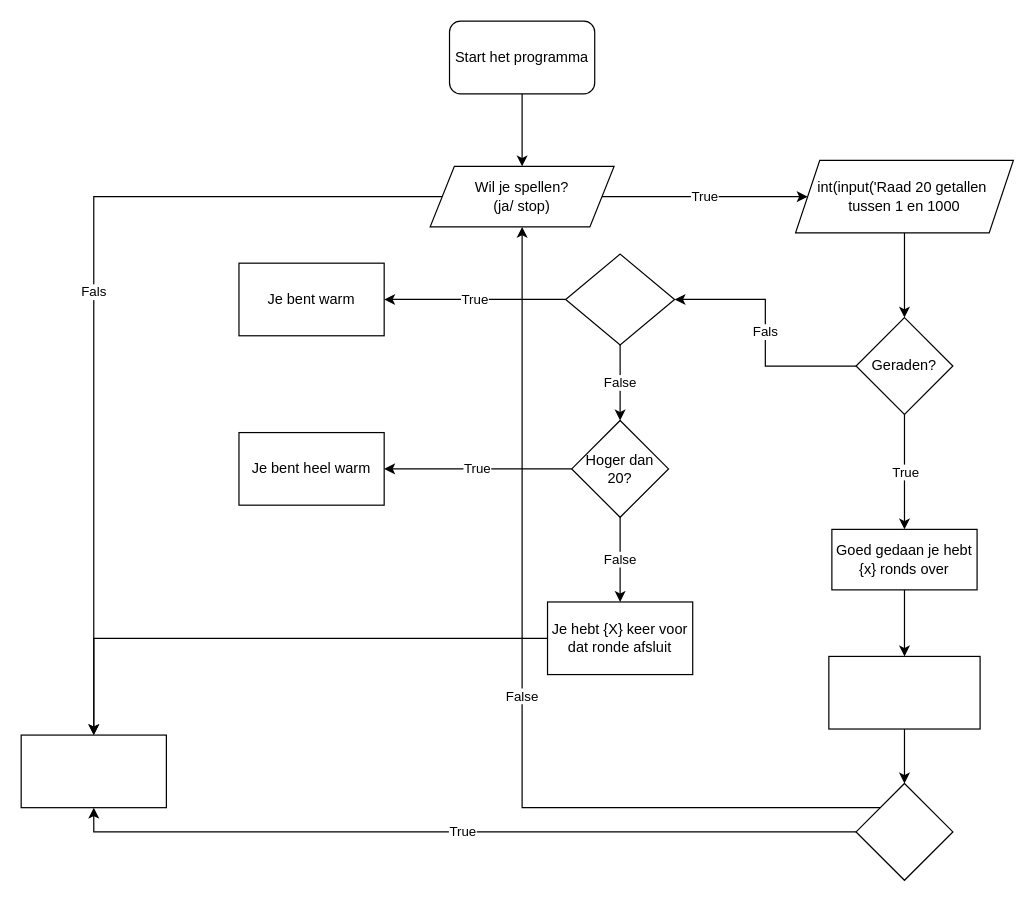
The diagram is 1035 pixels wide and 901 high, and some of its shapes have lost their labels. The shapes that lost their labels are listed below. From the top down, each one's box as (x1, y1, x2, y2) in pixels, then its label:
(564, 253, 675, 345): lager dan 50?
(828, 655, 980, 729): Jouw score is {x}
(20, 734, 166, 808): Einde programma!
(855, 782, 953, 880): score == 20?
